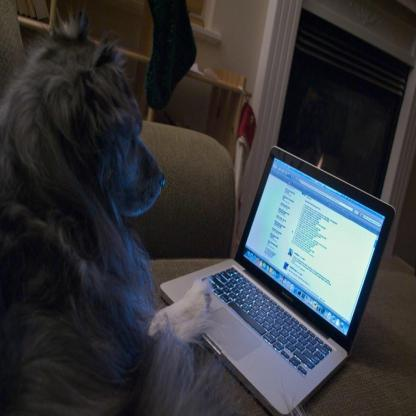board: (161, 145, 394, 416)
